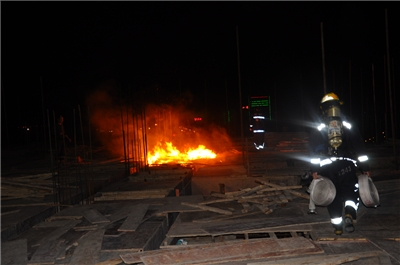fire: (142, 136, 223, 165)
